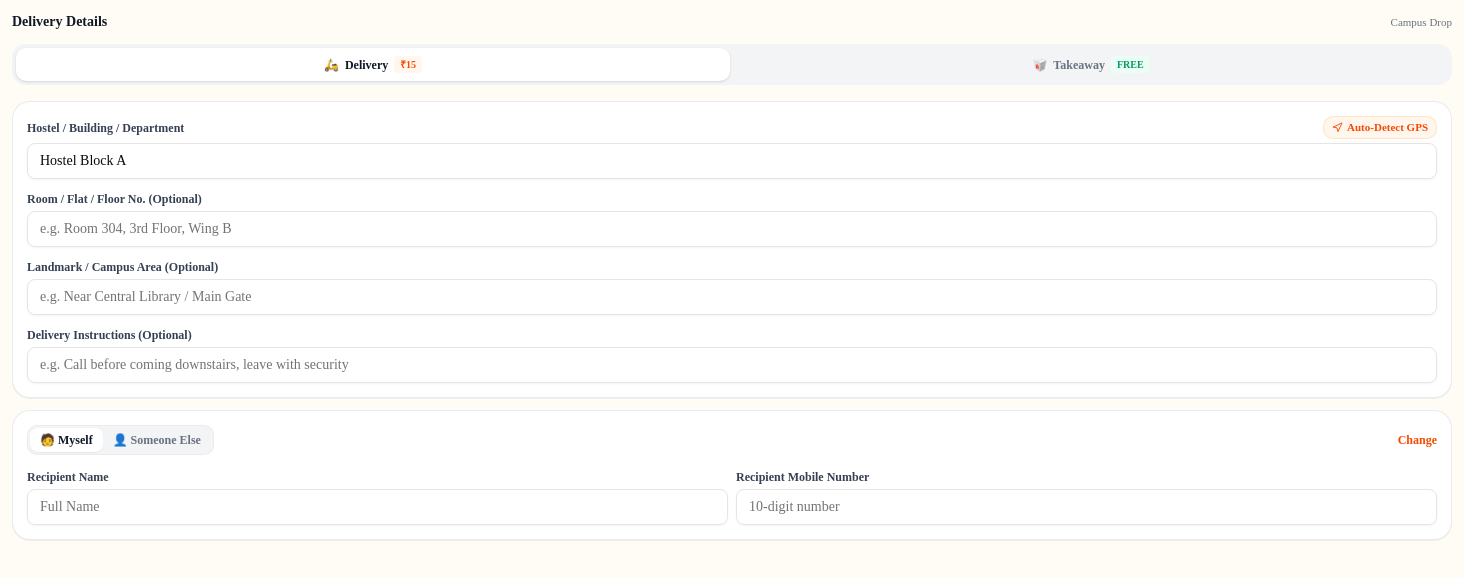
AddressForm Component › auto-detects campus location using GPS coordinates when Auto-Detect GPS button is clicked
The width and height of the screenshot is (1464, 578).
Click the button with aria-label "Auto-detect location using GPS": (1380, 128) [1323, 116, 1437, 139]
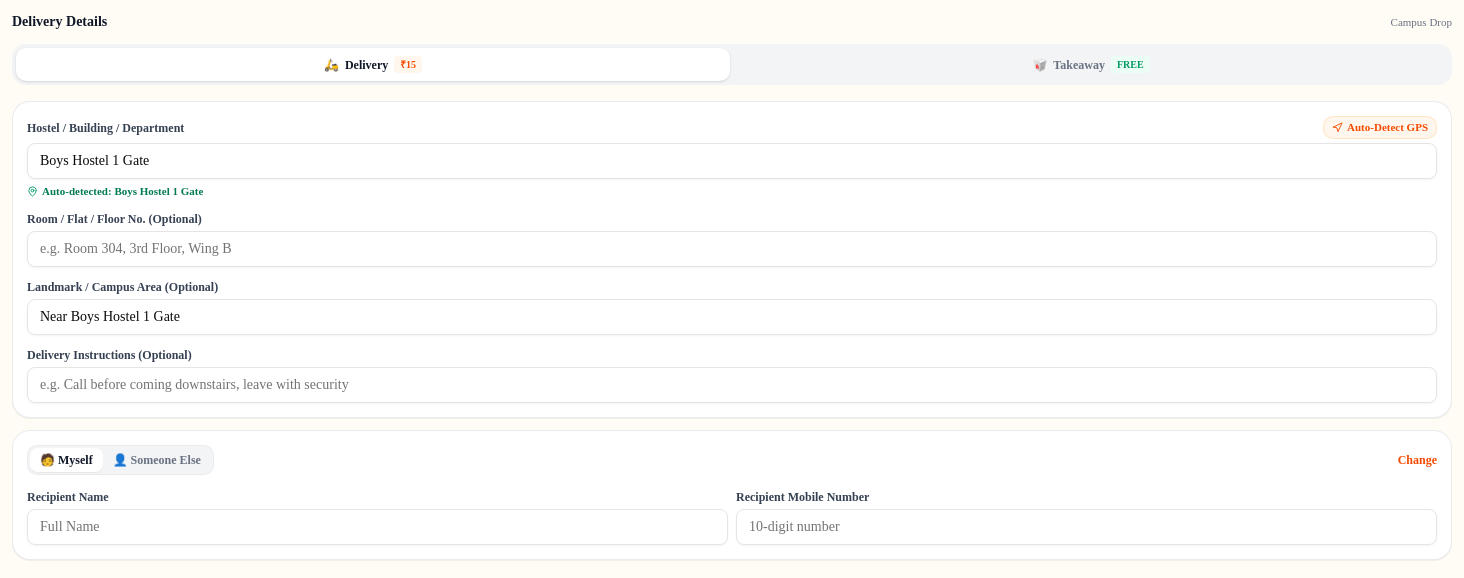
Expected: the field labelled "Hostel / Building / Department" holds "Boys Hostel 1 Gate", [27, 143, 1437, 179]
Expected: the text "Auto-detected: Boys Hostel 1 Gate" is shown, [42, 183, 203, 199]
